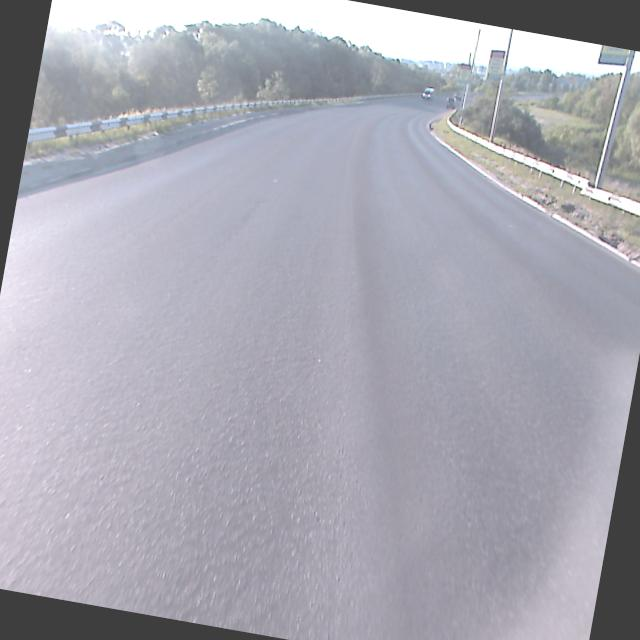road: (0, 92, 640, 640), (455, 100, 459, 107), (457, 92, 461, 93)
